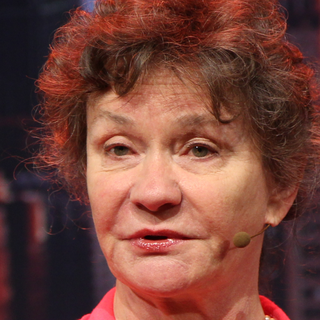eye: (178, 138, 226, 163), (99, 139, 143, 163)
